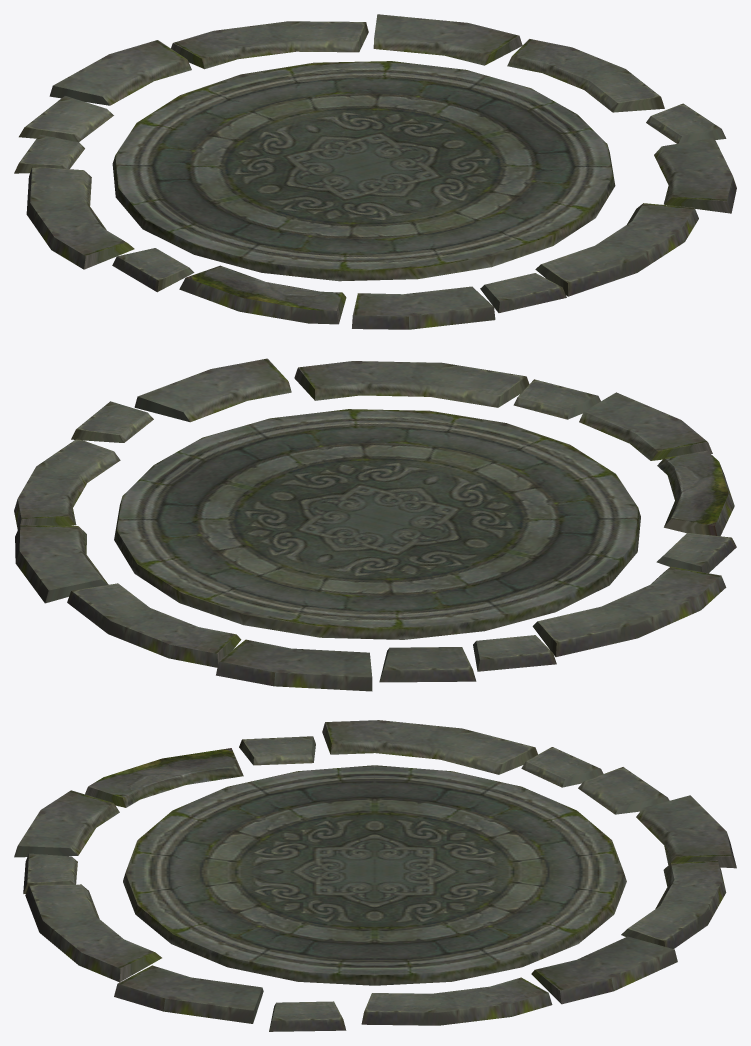
Rendered from DBXJ_08.FBX.
3 renders of one model, top to bottom at view 1: azimuth 30°, elevation 25°; view 2: azimuth 150°, elevation 25°; view 3: azimuth 270°, elevation 25°, orthographic. The views are drawn at different scales.
Visible parts, largest first — view 1: DBXJ_08; view 2: DBXJ_08; view 3: DBXJ_08.
Boxes of the visible parts, bbox=[...] form: DBXJ_08: bbox=[14, 14, 736, 329]; DBXJ_08: bbox=[14, 358, 736, 691]; DBXJ_08: bbox=[14, 720, 736, 1031].
Size of the model in its own units: 2194 by 39.98 by 2219.
